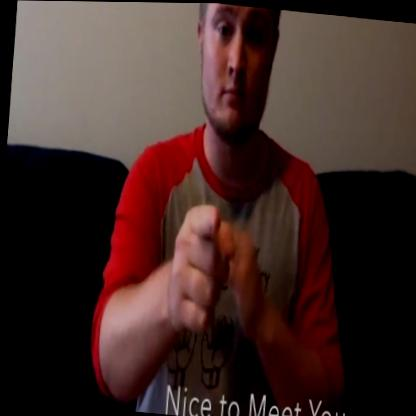NiceToMeetYou: (156, 171, 284, 359)
